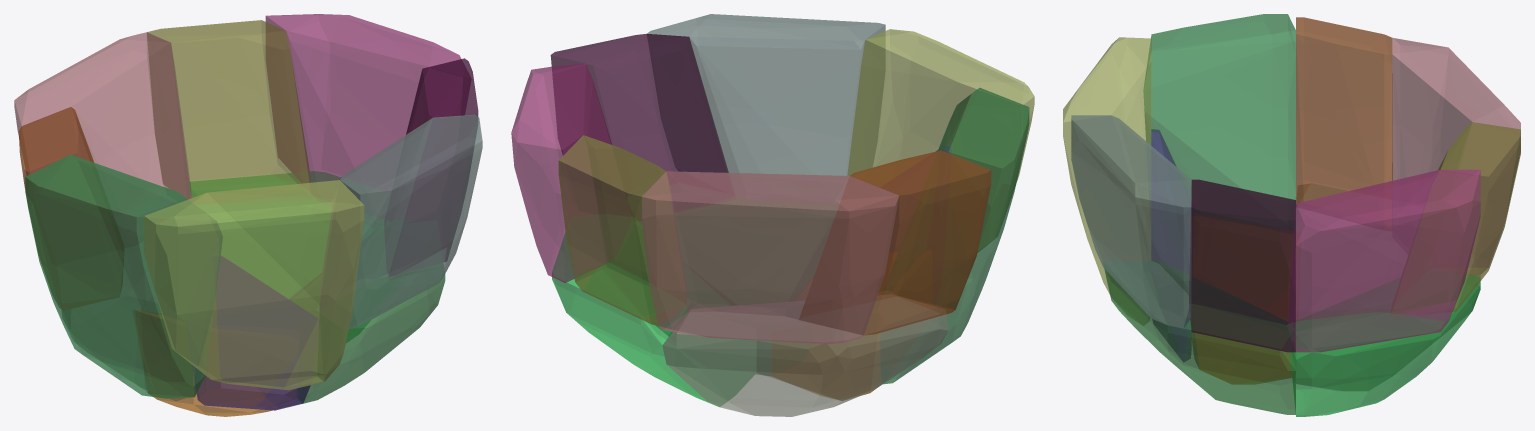
3 views of the same model, side by side, from view 1: azimuth 30°, elevation 25°; view 2: azimuth 150°, elevation 25°; view 3: azimuth 270°, elevation 25° (orthographic). The views are drawn at different scales.
Visible parts, largest first — view 1: Shape_IndexedFaceSet.002, Shape_IndexedFaceSet.008, Shape_IndexedFaceSet.007, Shape_IndexedFaceSet.006, Shape_IndexedFaceSet.010, Shape_IndexedFaceSet.004, Shape_IndexedFaceSet.012, Shape_IndexedFaceSet.009, Shape_IndexedFaceSet.001, Shape_IndexedFaceSet.003, Shape_IndexedFaceSet, Shape_IndexedFaceSet.011 (+1 smaller); view 2: Shape_IndexedFaceSet.004, Shape_IndexedFaceSet.010, Shape_IndexedFaceSet.005, Shape_IndexedFaceSet, Shape_IndexedFaceSet.002, Shape_IndexedFaceSet.009, Shape_IndexedFaceSet.006, Shape_IndexedFaceSet.007, Shape_IndexedFaceSet.008, Shape_IndexedFaceSet.003, Shape_IndexedFaceSet.001, Shape_IndexedFaceSet.011; view 3: Shape_IndexedFaceSet.007, Shape_IndexedFaceSet.008, Shape_IndexedFaceSet.010, Shape_IndexedFaceSet.004, Shape_IndexedFaceSet.002, Shape_IndexedFaceSet.005, Shape_IndexedFaceSet.009, Shape_IndexedFaceSet.003, Shape_IndexedFaceSet.001, Shape_IndexedFaceSet.006, Shape_IndexedFaceSet, Shape_IndexedFaceSet.011 (+1 smaller).
Boxes of the visible parts, left/top/right/bottom form: Shape_IndexedFaceSet.002: left=143, top=180, right=364, bottom=390; Shape_IndexedFaceSet.008: left=25, top=154, right=222, bottom=398; Shape_IndexedFaceSet.007: left=265, top=14, right=470, bottom=193; Shape_IndexedFaceSet.006: left=147, top=20, right=311, bottom=202; Shape_IndexedFaceSet.010: left=320, top=114, right=482, bottom=328; Shape_IndexedFaceSet.004: left=14, top=32, right=191, bottom=216; Shape_IndexedFaceSet.012: left=192, top=256, right=318, bottom=410; Shape_IndexedFaceSet.009: left=385, top=58, right=478, bottom=276; Shape_IndexedFaceSet.001: left=189, top=171, right=375, bottom=342; Shape_IndexedFaceSet.003: left=290, top=263, right=445, bottom=404; Shape_IndexedFaceSet: left=62, top=242, right=183, bottom=400; Shape_IndexedFaceSet.011: left=135, top=310, right=287, bottom=416; Shape_IndexedFaceSet.004: left=642, top=171, right=898, bottom=343; Shape_IndexedFaceSet.010: left=647, top=14, right=885, bottom=203; Shape_IndexedFaceSet.005: left=799, top=150, right=991, bottom=335; Shape_IndexedFaceSet: left=662, top=295, right=948, bottom=416; Shape_IndexedFaceSet.002: left=847, top=29, right=1034, bottom=251; Shape_IndexedFaceSet.009: left=550, top=33, right=728, bottom=196; Shape_IndexedFaceSet.006: left=558, top=135, right=686, bottom=325; Shape_IndexedFaceSet.007: left=511, top=63, right=611, bottom=282; Shape_IndexedFaceSet.008: left=881, top=87, right=1029, bottom=384; Shape_IndexedFaceSet.003: left=641, top=197, right=838, bottom=375; Shape_IndexedFaceSet.001: left=552, top=233, right=755, bottom=406; Shape_IndexedFaceSet.011: left=772, top=333, right=880, bottom=400; Shape_IndexedFaceSet.007: left=1288, top=169, right=1480, bottom=352; Shape_IndexedFaceSet.008: left=1143, top=14, right=1295, bottom=230; Shape_IndexedFaceSet.010: left=1071, top=115, right=1191, bottom=328; Shape_IndexedFaceSet.004: left=1392, top=37, right=1520, bottom=274; Shape_IndexedFaceSet.002: left=1063, top=37, right=1151, bottom=325; Shape_IndexedFaceSet.005: left=1296, top=17, right=1392, bottom=206; Shape_IndexedFaceSet.009: left=1189, top=179, right=1295, bottom=352; Shape_IndexedFaceSet.003: left=1103, top=261, right=1295, bottom=414; Shape_IndexedFaceSet.001: left=1287, top=274, right=1480, bottom=416; Shape_IndexedFaceSet.006: left=1391, top=122, right=1520, bottom=313; Shape_IndexedFaceSet: left=1296, top=183, right=1479, bottom=390; Shape_IndexedFaceSet.011: left=1192, top=284, right=1291, bottom=384.
Bounding box in the file's own units: 0.6986 × 0.4039 × 0.6222.
